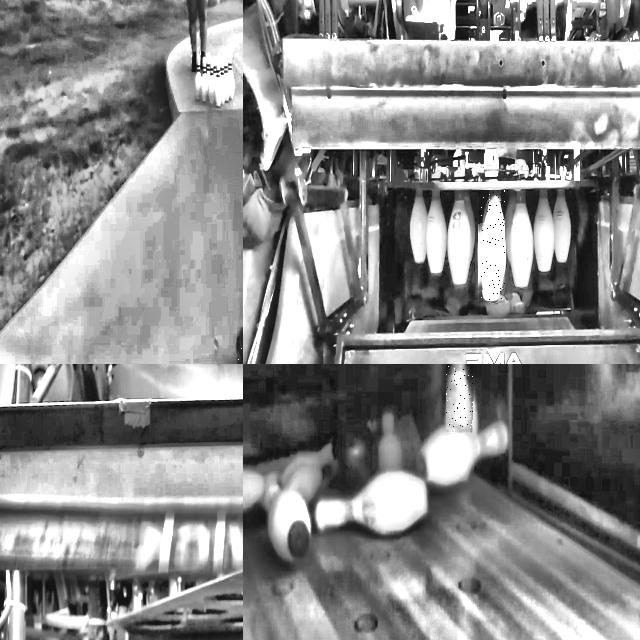bowling-ball: (238, 328, 243, 362)
bowling-pins: (481, 191, 504, 302), (447, 190, 472, 284), (510, 190, 534, 287), (446, 364, 473, 430), (533, 188, 554, 271), (426, 189, 446, 273), (553, 189, 571, 263), (410, 189, 427, 262)
